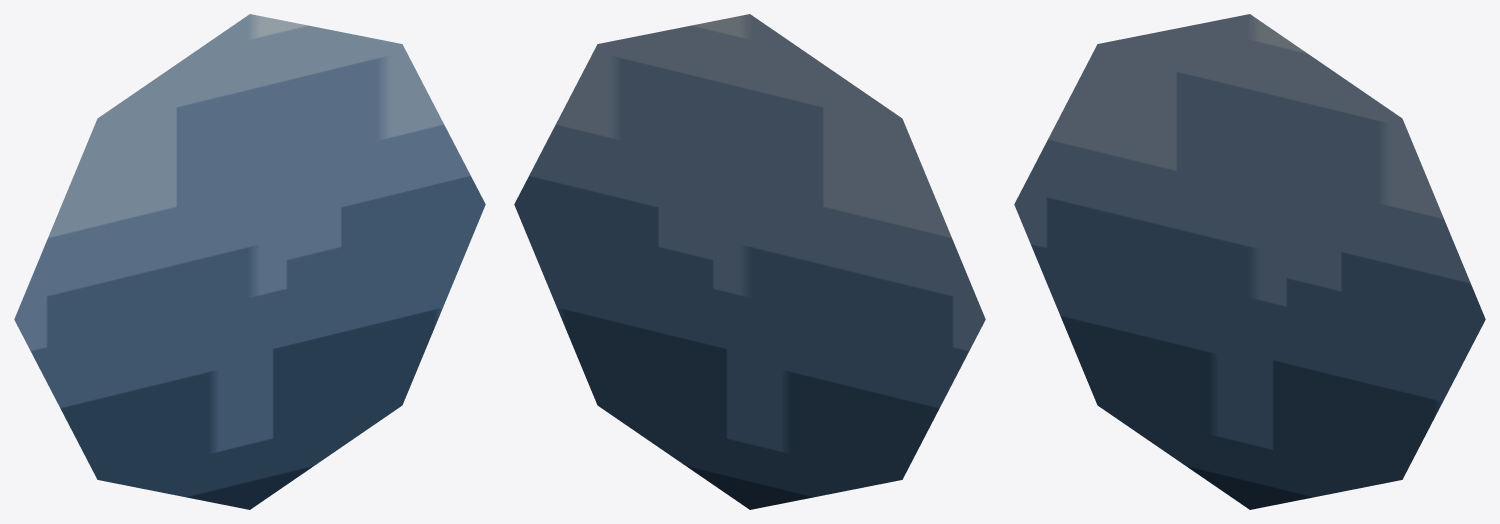
The model's file is Itr_Obj_Frame4_Picture_01.FBX.
The picture shows the model from 3 angles, left to right: view 1: azimuth 30°, elevation 25°; view 2: azimuth 150°, elevation 25°; view 3: azimuth 330°, elevation 25°; orthographic projection.
Visible parts, largest first — view 1: Itr_Obj_Frame4_Picture_01; view 2: Itr_Obj_Frame4_Picture_01; view 3: Itr_Obj_Frame4_Picture_01.
Part boxes in pixels (x1,y1,x2,y2): Itr_Obj_Frame4_Picture_01: (14, 14, 485, 509); Itr_Obj_Frame4_Picture_01: (514, 14, 985, 509); Itr_Obj_Frame4_Picture_01: (1014, 14, 1485, 509).
Size of the model in its own units: 27.04 by 27.17 by 4.29e-06.
